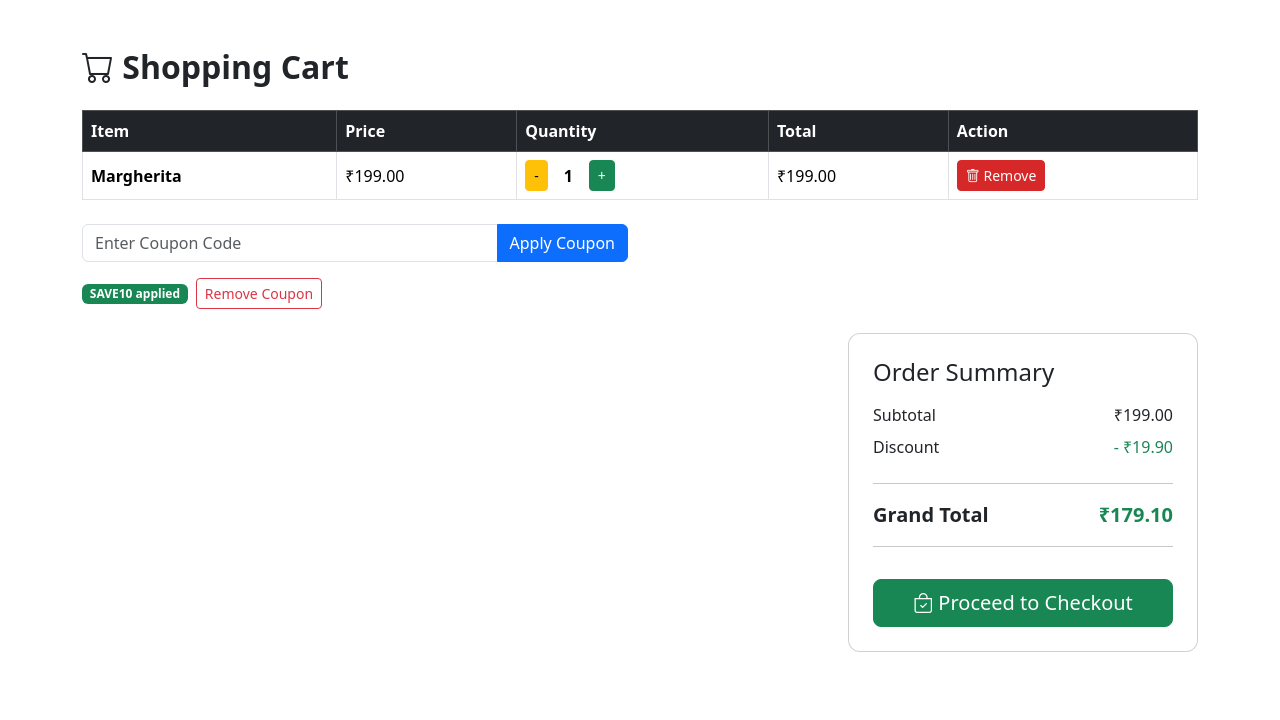
Cart › re-syncs after a rejected coupon instead of leaving the old one showing as applied
The image size is (1280, 720).
Expected: the text "SAVE10" is shown, [90, 285, 132, 302]
Type "BADCODE" into the field with placeholder "Enter Coupon Code" at (290, 243), box [82, 224, 498, 262]
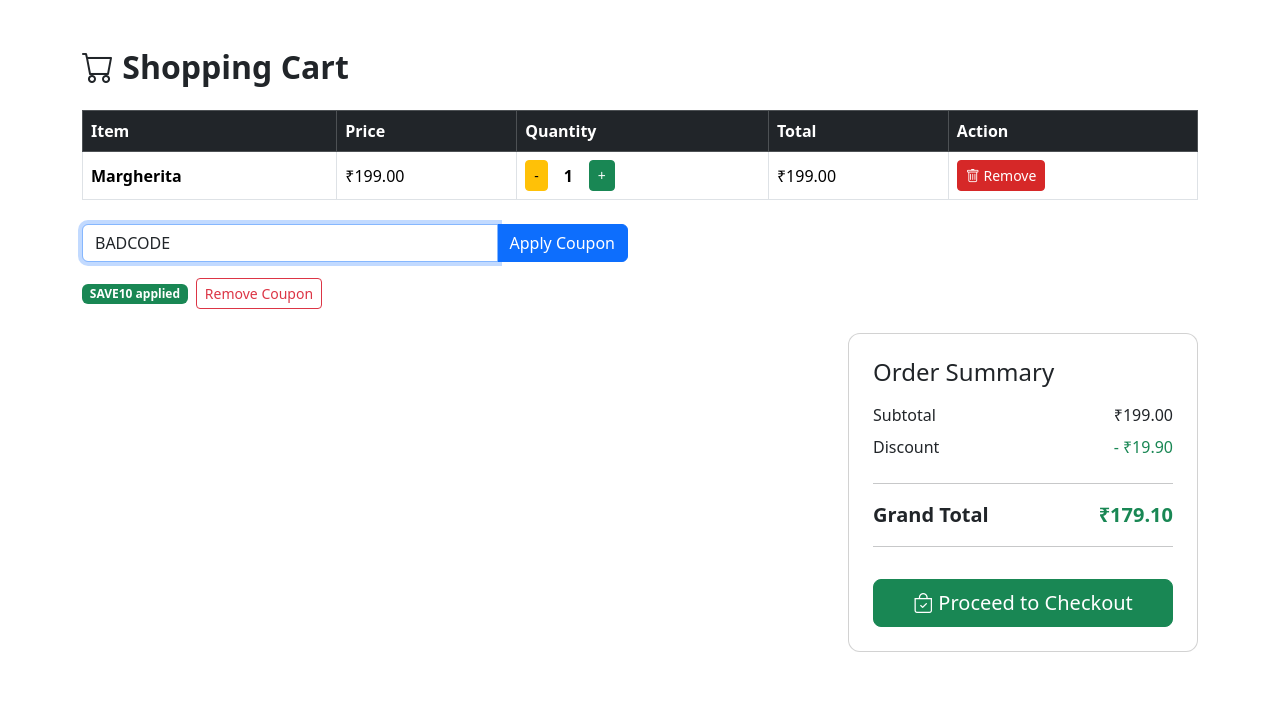
Click the button "Apply Coupon" at (562, 243), box [496, 224, 628, 262]
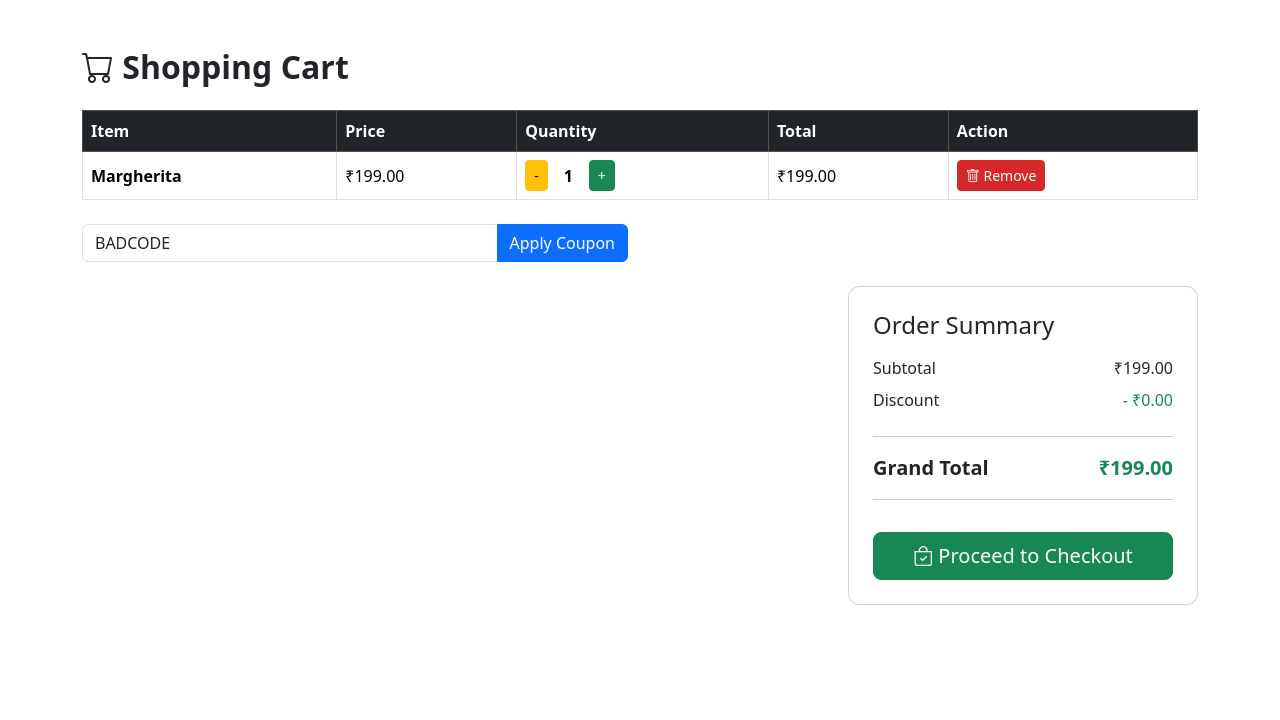
Result: the text "SAVE10" is gone
